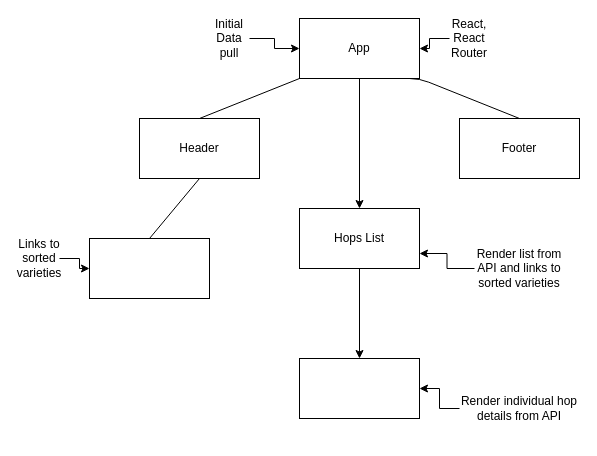
This 597x456 diagram has some shape labels left out. Each missing label, with the box of its shape:
Hops Details: (298, 358, 420, 418)
Nav Bar: (88, 238, 210, 298)
